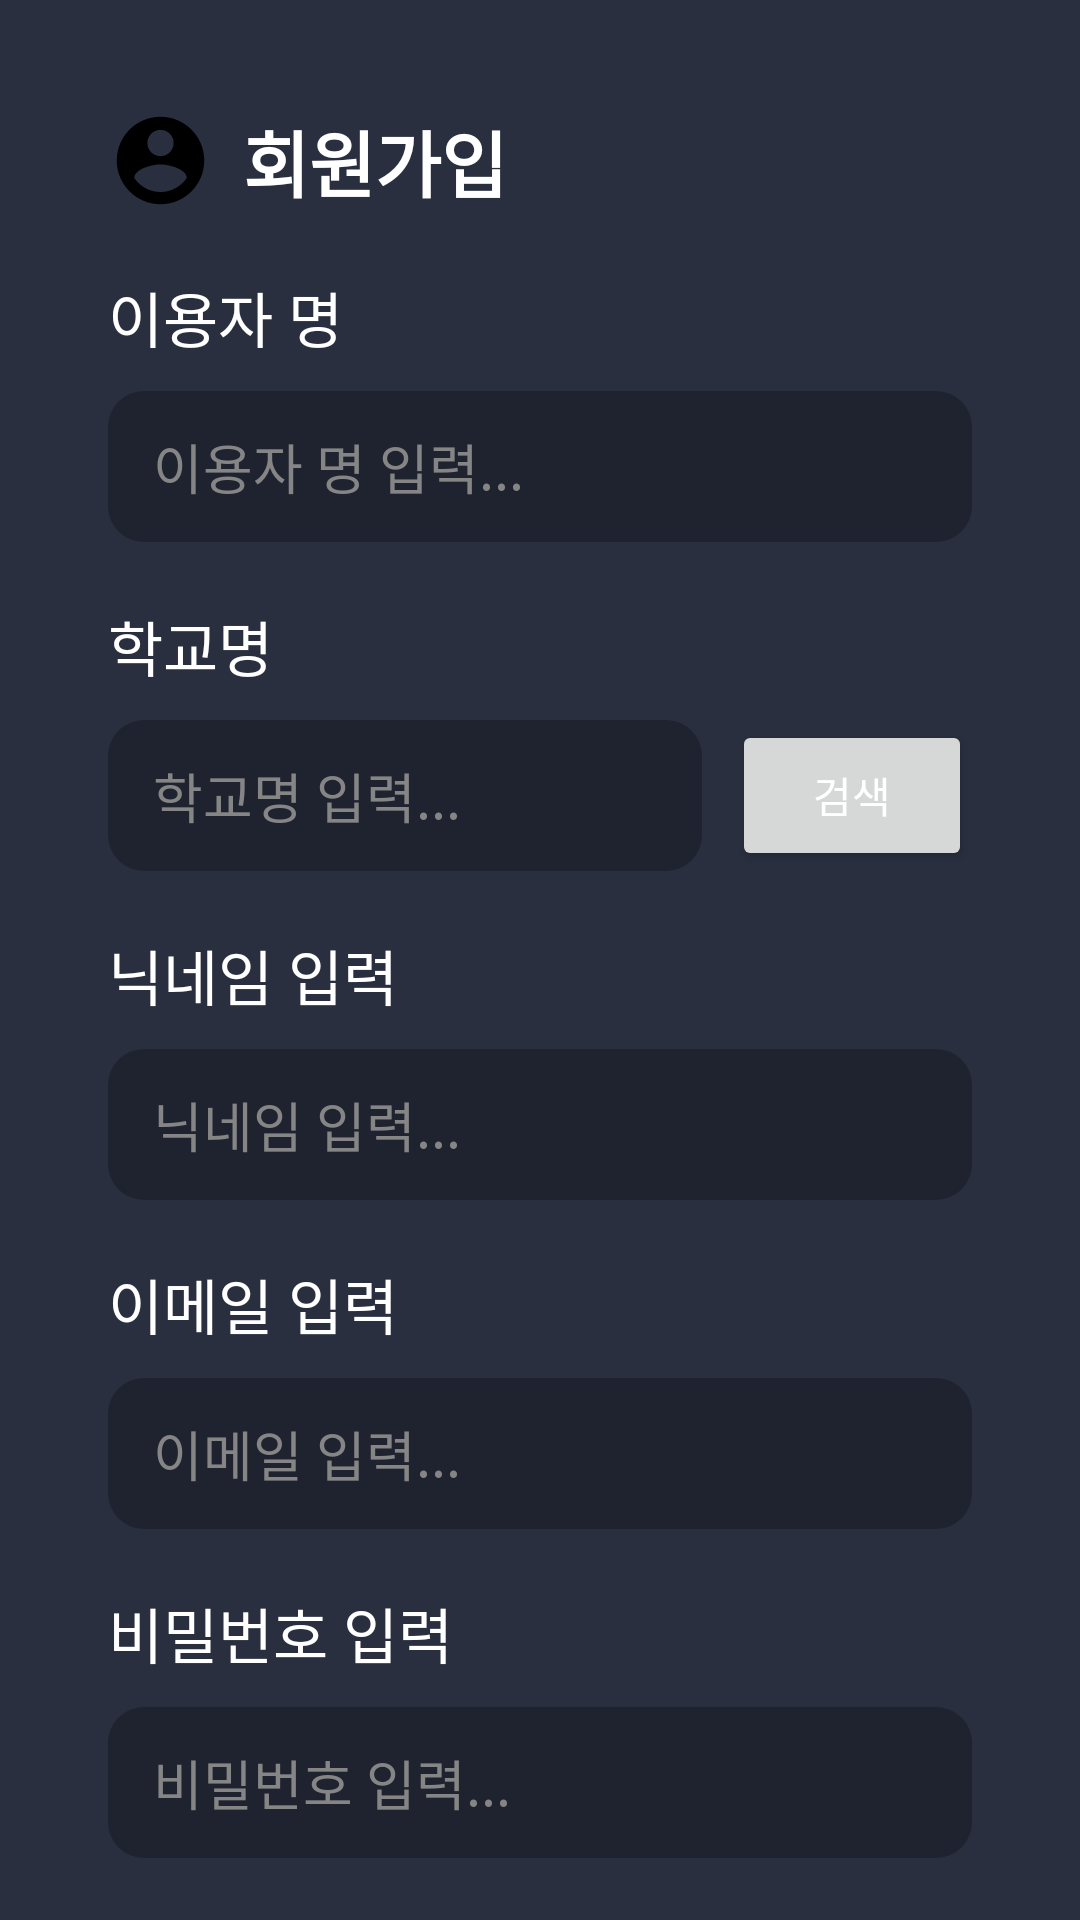

Where icons sit on this 1080 × 1920 app screen, as [x1=x1, y1=y1, x2=x2, y2=y2]:
account circle: [x1=117, y1=117, x2=204, y2=204]
